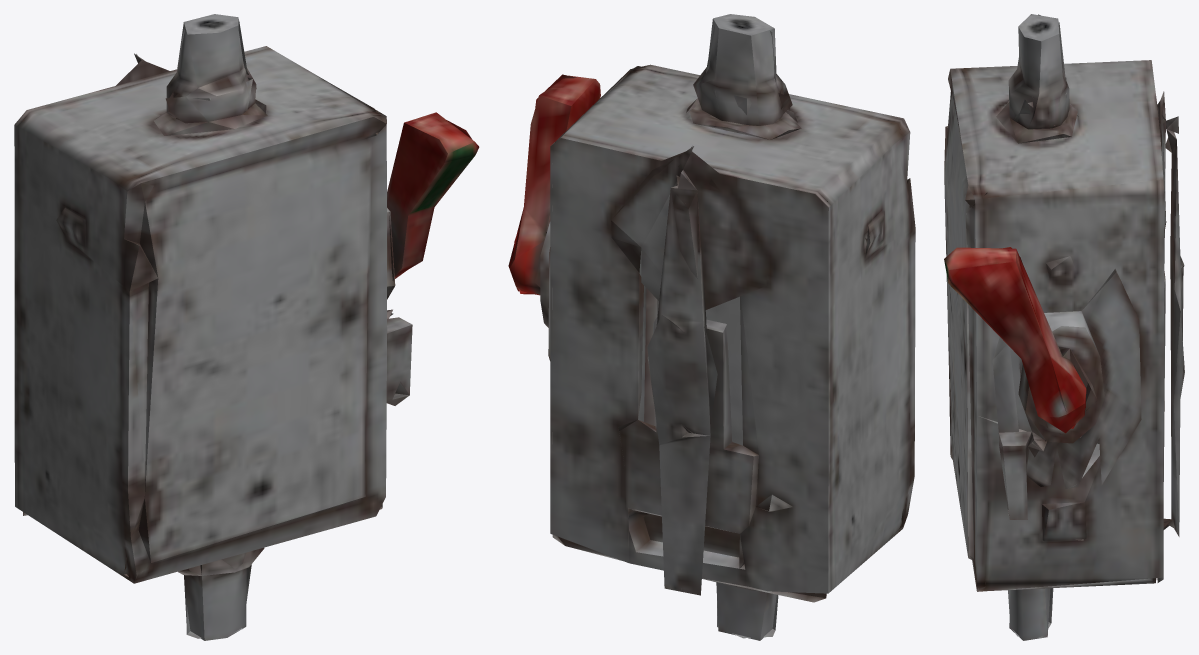
The model's file is p7-disconnect-switch.glb.
3 renders of one model, left to right at view 1: azimuth 30°, elevation 25°; view 2: azimuth 150°, elevation 25°; view 3: azimuth 270°, elevation 25°, orthographic.
Visible parts, largest first — view 1: p7-disconnect-switch; view 2: p7-disconnect-switch; view 3: p7-disconnect-switch.
Part boxes in pixels (left/top/right/bottom): p7-disconnect-switch: left=14, top=14, right=479, bottom=640; p7-disconnect-switch: left=508, top=14, right=915, bottom=640; p7-disconnect-switch: left=944, top=14, right=1184, bottom=640.
Size of the model in its own units: 0.35 by 0.55 by 0.2.
Materials: 1 (1 with a texture image).
